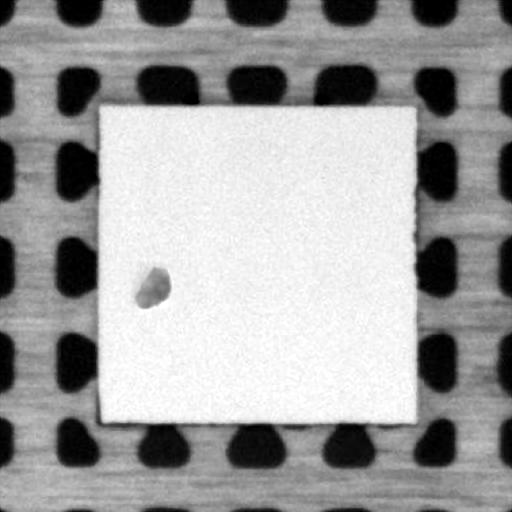DIE_INK: (135, 262, 168, 309)
